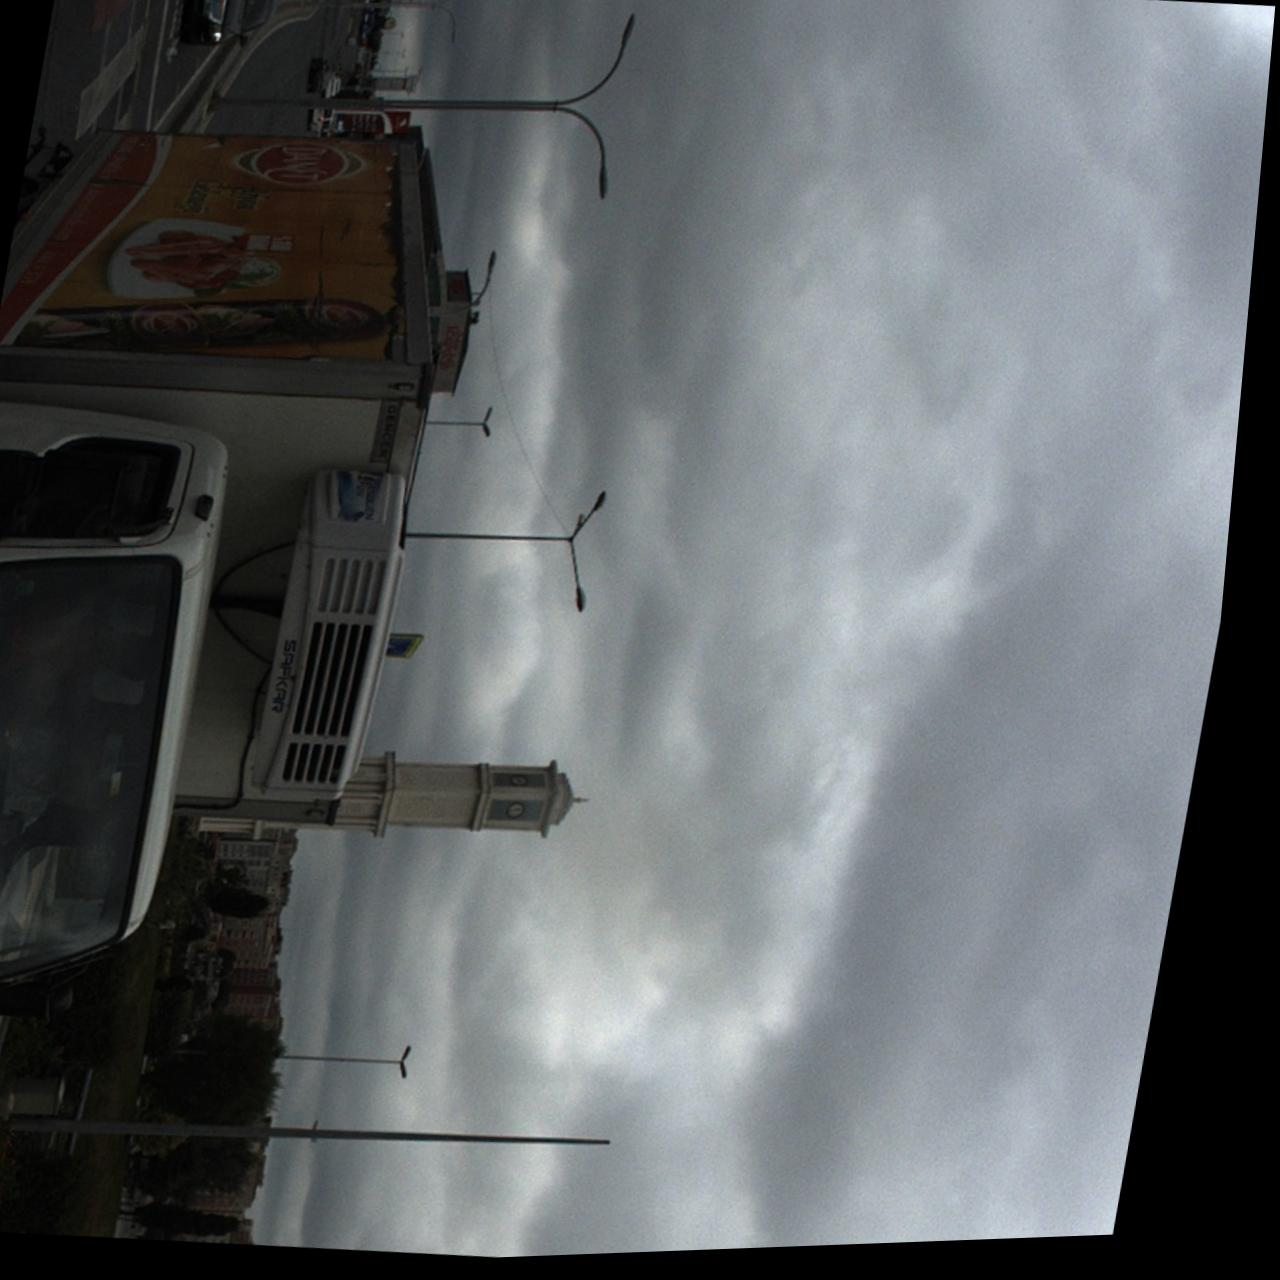SignStore: (440, 305, 476, 397)
